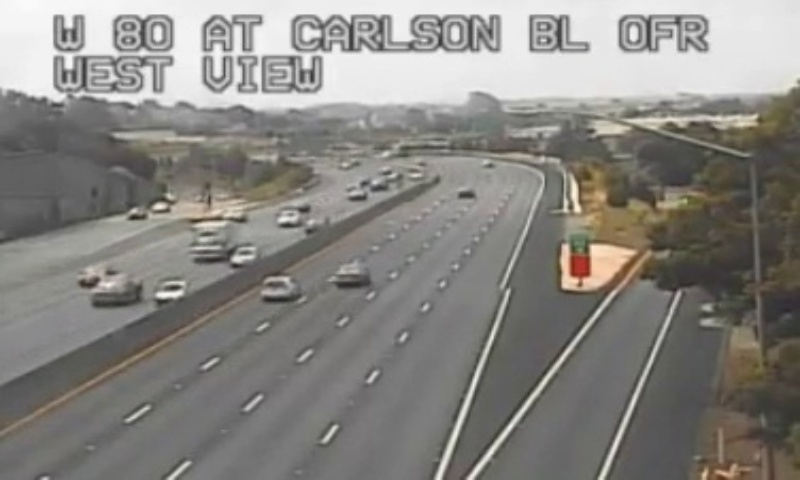car: (259, 274, 300, 301), (331, 265, 370, 286)
